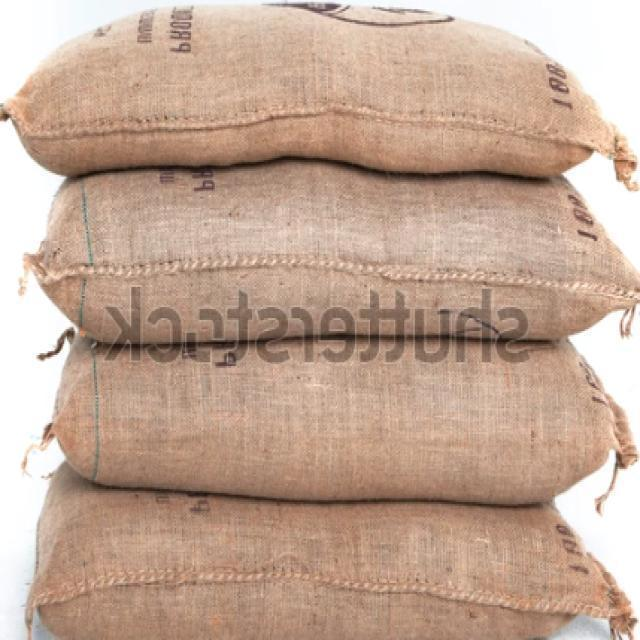gunny_bag: (21, 164, 637, 358), (25, 327, 640, 506), (2, 3, 626, 178), (19, 484, 637, 638)
